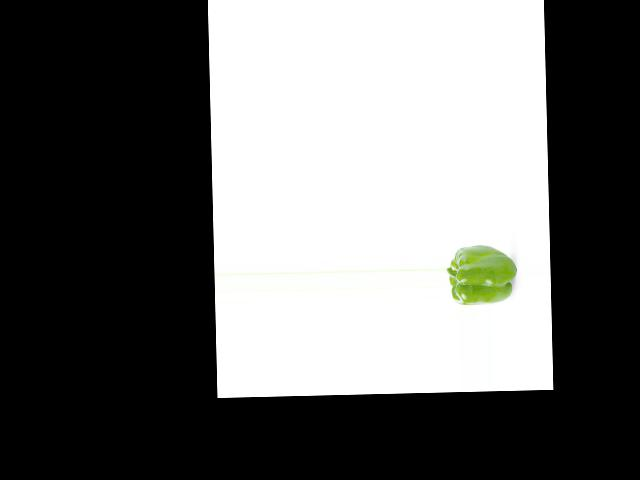bell_pepper: (447, 243, 515, 306)
